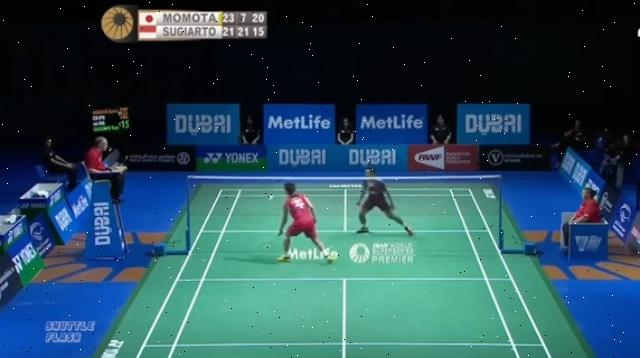Shuttlecock: (266, 192, 278, 202)
